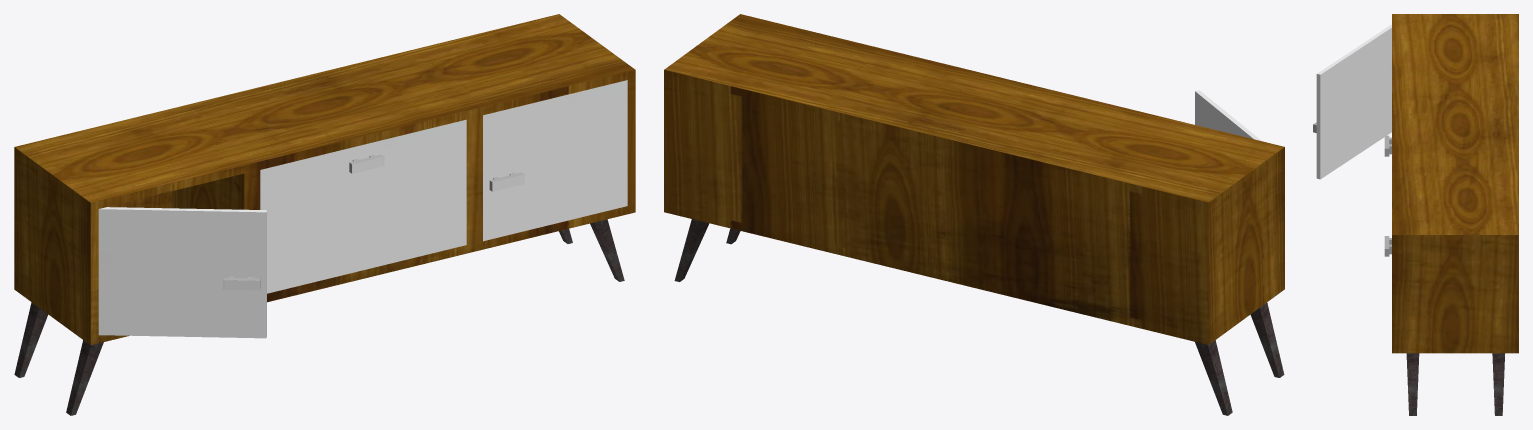
Rendered from storage_modern_lopes.glb.
The picture shows the model from 3 angles, left to right: view 1: azimuth 30°, elevation 25°; view 2: azimuth 150°, elevation 25°; view 3: azimuth 270°, elevation 25°; orthographic projection. The views are drawn at different scales.
Visible parts, largest first — view 1: movel_lambert1_0; view 2: movel_lambert1_0; view 3: movel_lambert1_0.
Part boxes in pixels (x1,y1,x2,y2): movel_lambert1_0: [14, 14, 635, 415]; movel_lambert1_0: [664, 14, 1284, 415]; movel_lambert1_0: [1313, 14, 1518, 415].
Size of the model in its own units: 4.07 by 1.53 by 1.57.
Materials: 2 (2 with a texture image).
